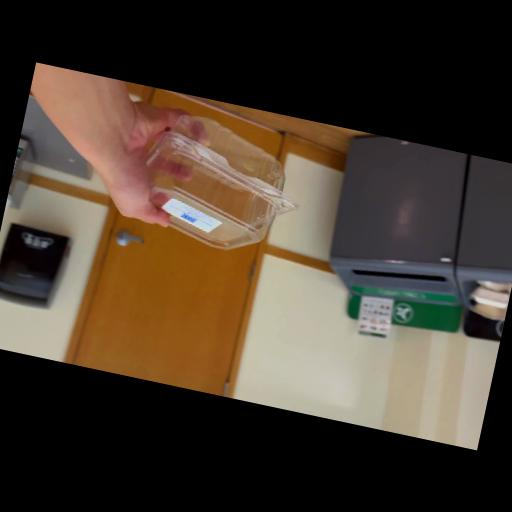small_plastic_container: (130, 106, 312, 262)
